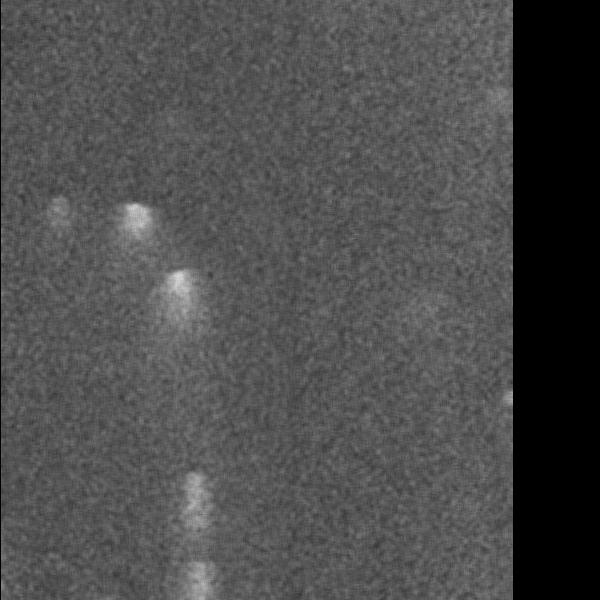spark: (157, 262, 199, 390), (114, 197, 156, 313), (176, 467, 209, 553), (382, 292, 427, 330), (181, 558, 214, 600), (45, 193, 69, 245)
